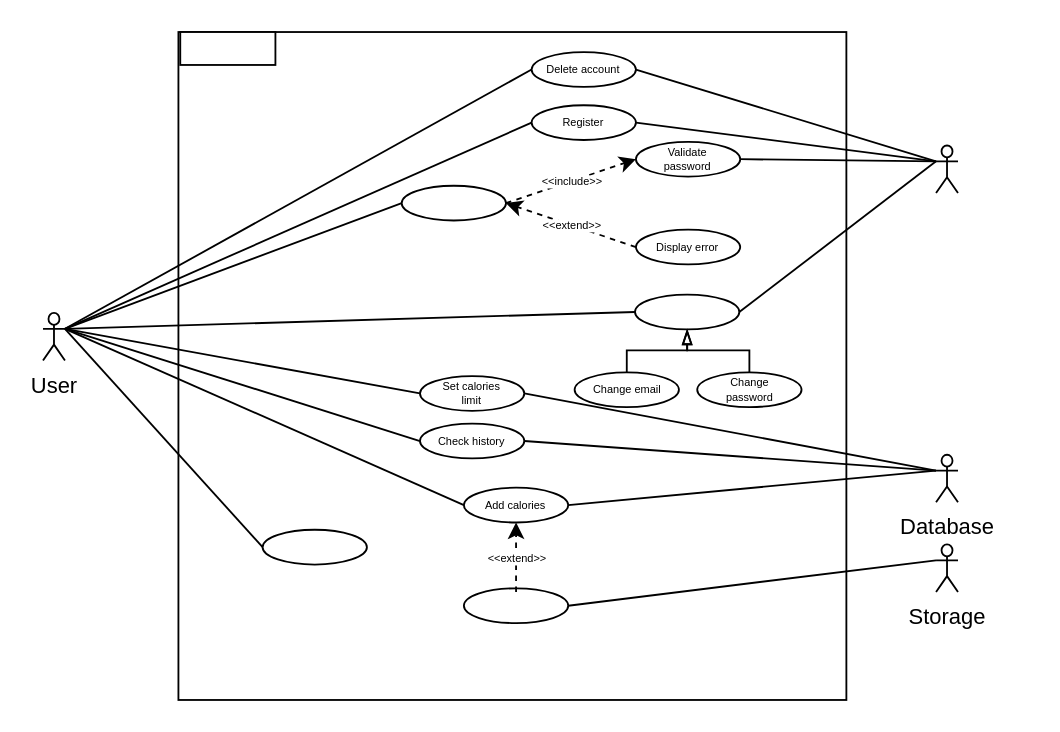
Some shapes in this 1060 by 732 pixel diagram are drawn without their labels. The centre of each missing label's shape, as x and y in pixels:
"Authentication service" belongs at (x=946, y=168).
"CaloriesTracker" belongs at (x=226, y=47).
"Change credentials" belongs at (x=686, y=311).
"Log in" belongs at (x=453, y=202).
"Set notifications" belongs at (x=314, y=546).
"Take photo" belongs at (x=515, y=605).
